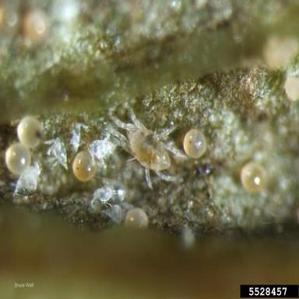spider mite: (90, 92, 199, 196)
